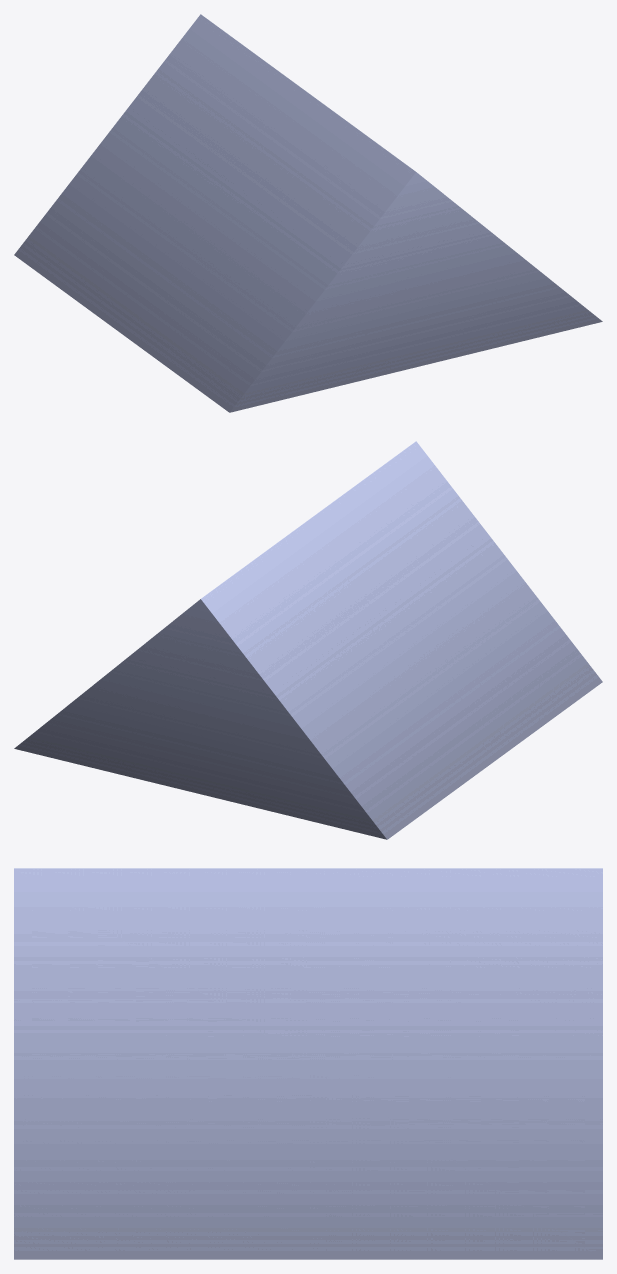
File: prototype-kit--shape-triangular-prism-low.glb
3 views of the same model, one above another, from view 1: azimuth 30°, elevation 25°; view 2: azimuth 150°, elevation 25°; view 3: azimuth 270°, elevation 25° (orthographic). The views are drawn at different scales.
Visible parts, largest first — view 1: shape-triangular-prism-low; view 2: shape-triangular-prism-low; view 3: shape-triangular-prism-low.
Boxes of the visible parts, x1,y1,x2,y2 form: shape-triangular-prism-low: (14,14,602,412); shape-triangular-prism-low: (14,441,602,839); shape-triangular-prism-low: (14,868,602,1259).
Size of the model in its own units: 1 by 0.5 by 1.
Materials: 1 (1 with a texture image).
